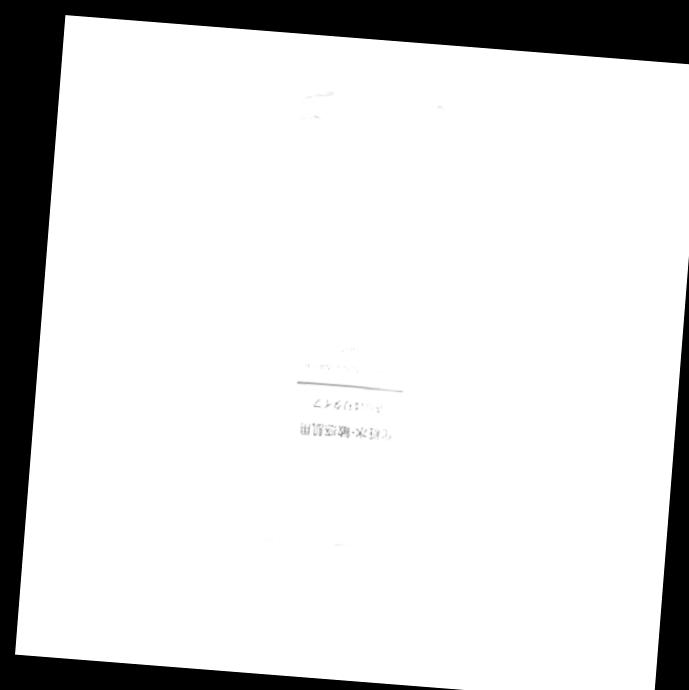cosmetic: (249, 90, 457, 629)
